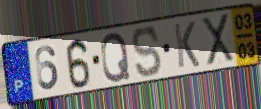6: (64, 37, 92, 91), (33, 45, 61, 93)
K: (172, 19, 201, 70)
Q: (99, 30, 132, 84)
S: (131, 25, 164, 80)
X: (199, 11, 237, 68)
